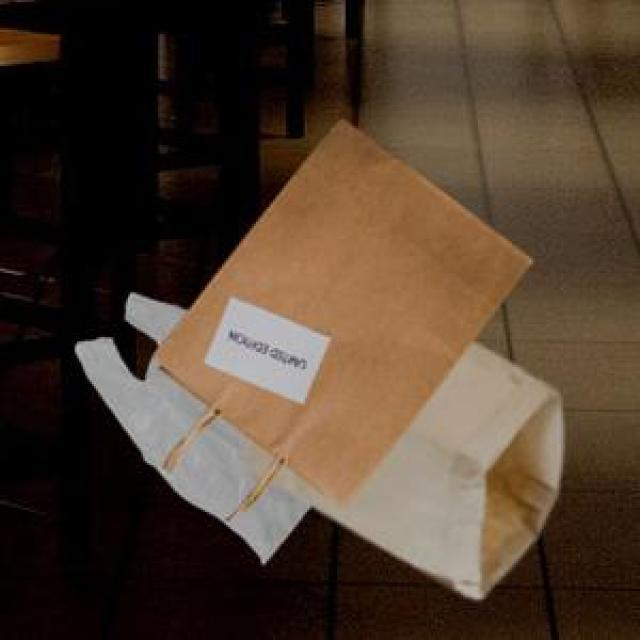paper: (149, 115, 529, 516), (241, 339, 559, 593)
